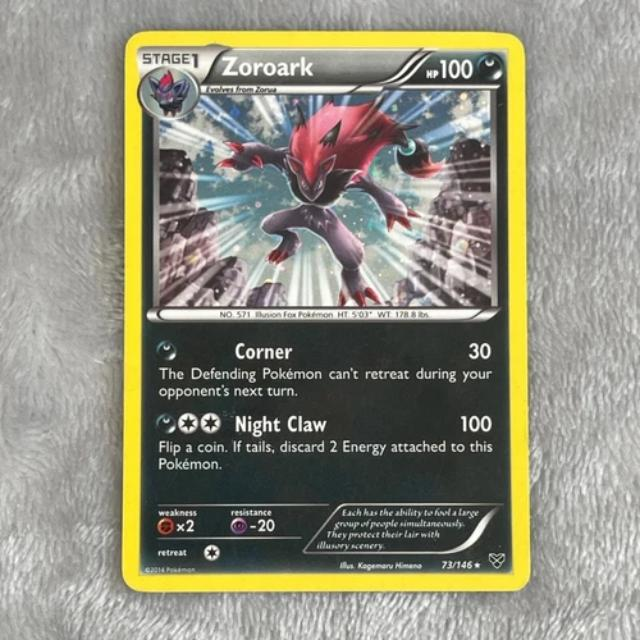Card: (119, 28, 535, 595)
Name: (215, 52, 320, 81)
